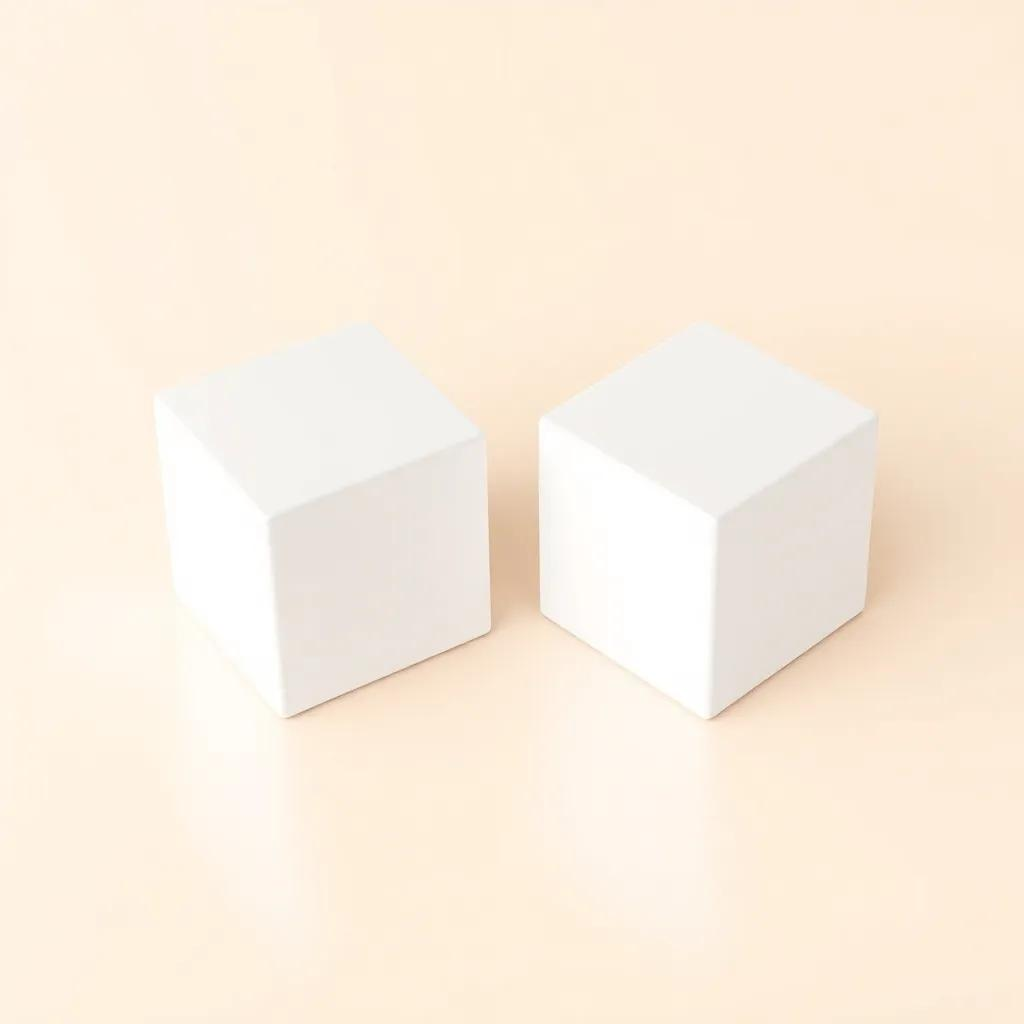cube: (536, 318, 878, 720), (152, 319, 492, 718)
